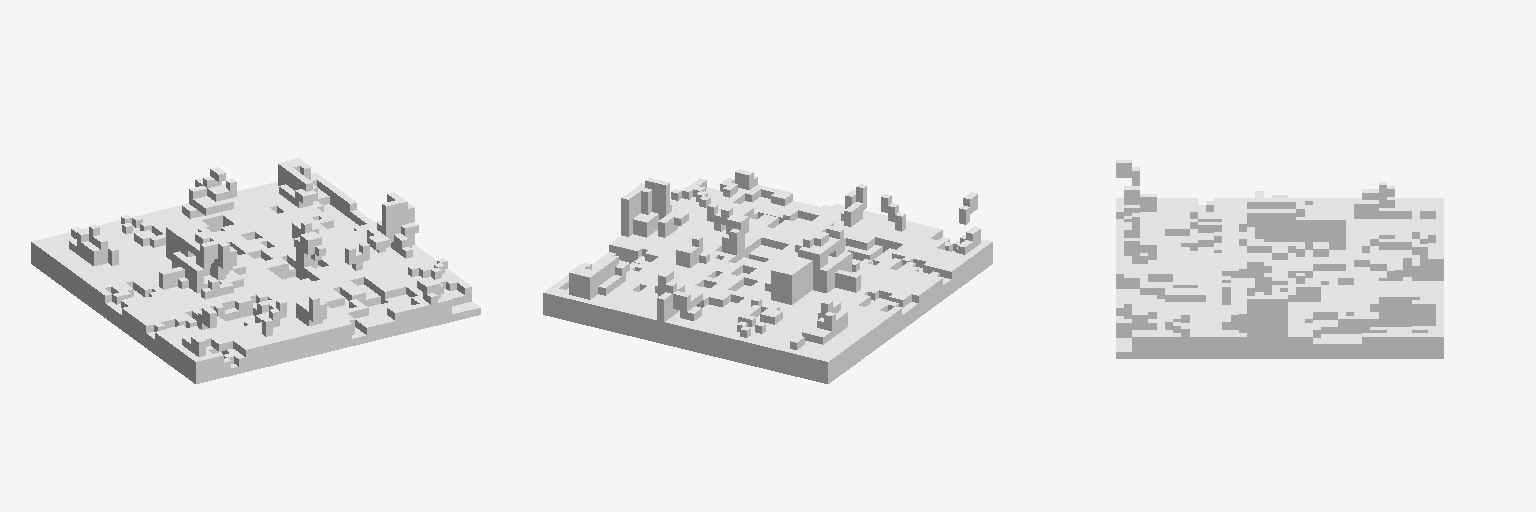
Rendered from Enfer.obj.
3 views of the same model, side by side, from view 1: azimuth 30°, elevation 25°; view 2: azimuth 150°, elevation 25°; view 3: azimuth 270°, elevation 25° (orthographic).
Parts seen in each view (by area): view 1: object 1; view 2: object 1; view 3: object 1.
Boxes of the visible parts, <box> form: object 1: <box>31,158,480,383</box>; object 1: <box>543,169,992,383</box>; object 1: <box>1116,160,1443,358</box>.
Bounding box in the file's own units: 4 × 0.9 × 4.